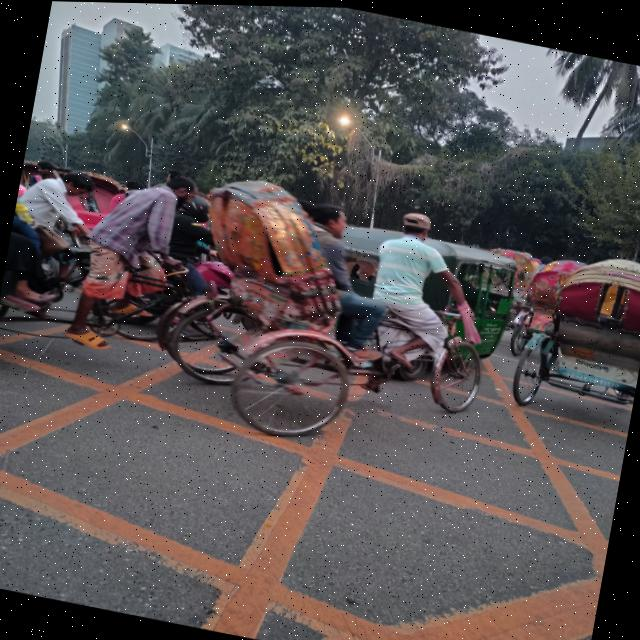rikshaw: (140, 149, 504, 483), (491, 198, 640, 445)
